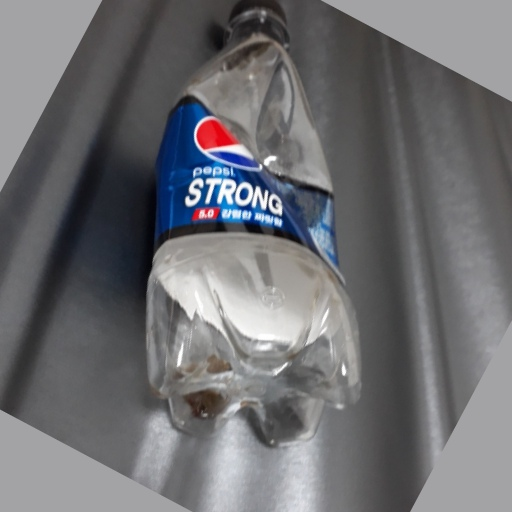Plastic_0: (148, 2, 362, 445)
